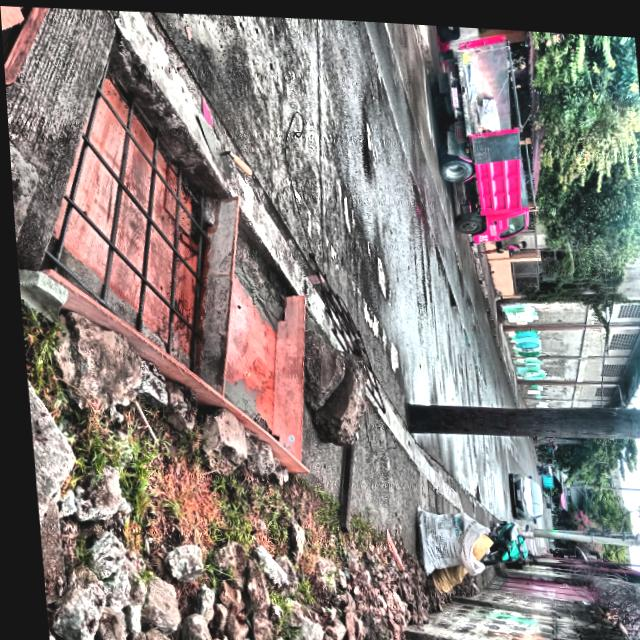Open Manhole: (51, 67, 215, 379)
